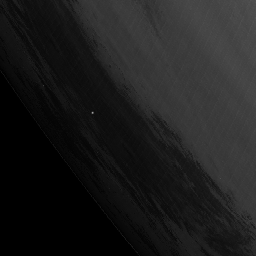Target: (90, 110, 94, 114)
